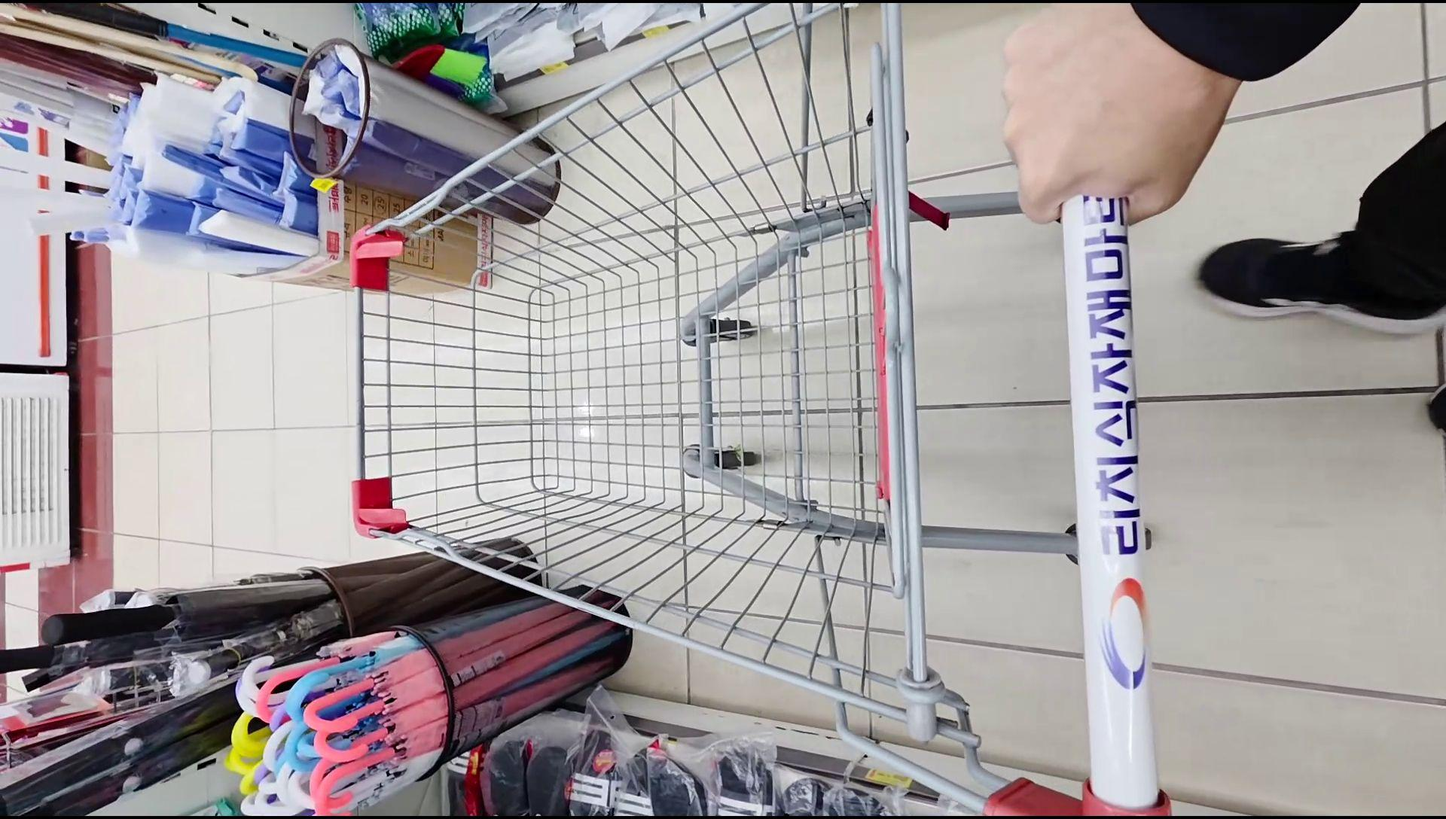empty_cart: (355, 0, 1166, 818)
